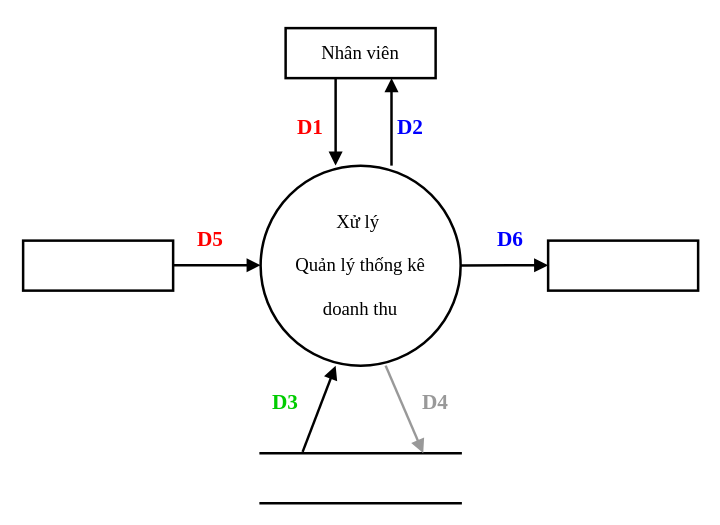
The diagram is 720 pixels wide and 525 high, and some of its shapes have lost their labels. Here are the shapes that lost their labels. From the top down, the centre of each, then its label:
At point (97, 265): "Thiết bị nhập".
At point (622, 265): "Thiết bị xuất".
